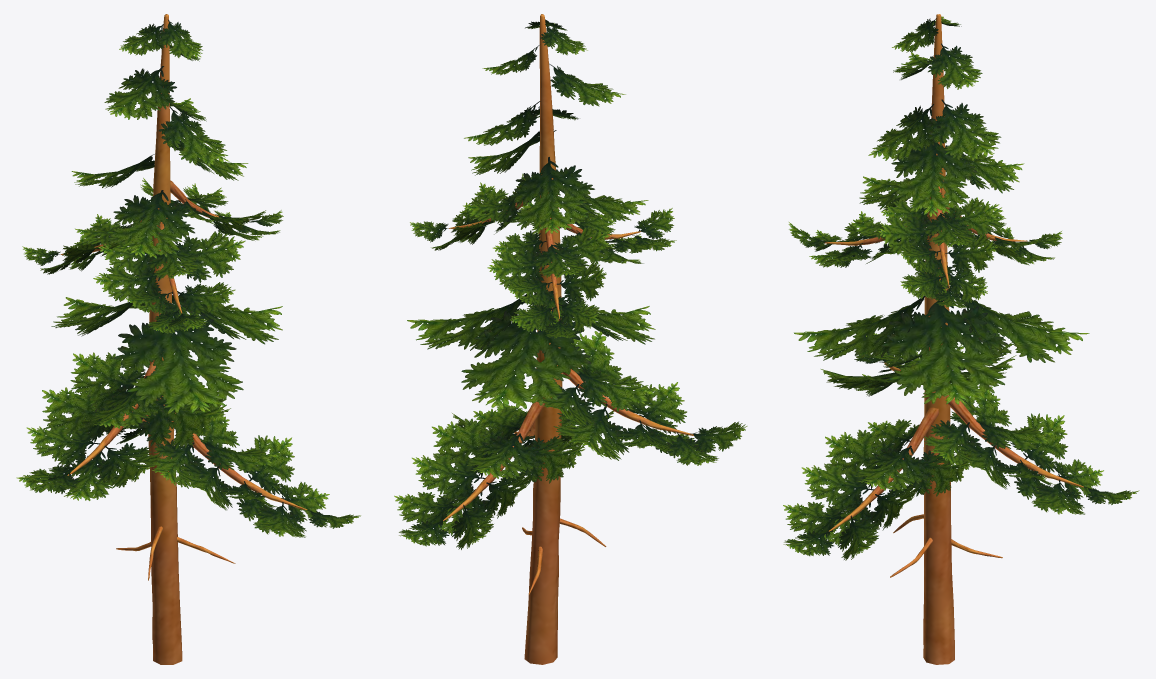
File: Pine model  A (7).glb
The picture shows the model from 3 angles, left to right: view 1: azimuth 30°, elevation 25°; view 2: azimuth 150°, elevation 25°; view 3: azimuth 270°, elevation 25°; orthographic projection.
Parts seen in each view (by area): view 1: small_stylized_pine_var2_m_leaves_0, small_stylized_pine_var2_m_trunk_0; view 2: small_stylized_pine_var2_m_leaves_0, small_stylized_pine_var2_m_trunk_0; view 3: small_stylized_pine_var2_m_leaves_0, small_stylized_pine_var2_m_trunk_0.
Boxes of the visible parts, x1,y1,x2,y2 form: small_stylized_pine_var2_m_leaves_0: (16,19,360,537); small_stylized_pine_var2_m_trunk_0: (60,14,307,664); small_stylized_pine_var2_m_leaves_0: (394,19,747,549); small_stylized_pine_var2_m_trunk_0: (443,14,693,664); small_stylized_pine_var2_m_leaves_0: (783,16,1139,560); small_stylized_pine_var2_m_trunk_0: (824,14,1083,664).
Size of the model in its own units: 409 by 832 by 425.
Materials: 2 (2 with a texture image).
